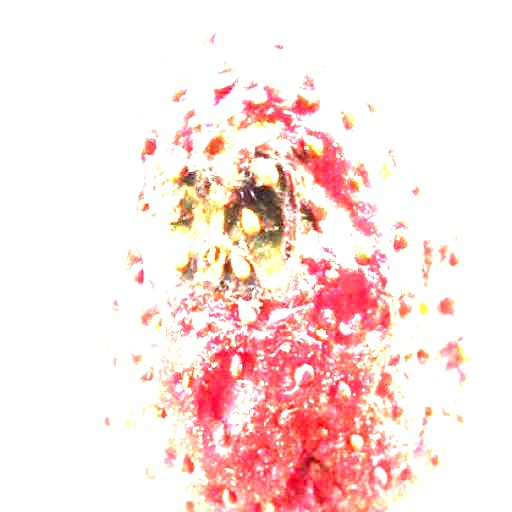Anthracnose Fruit Rot: (130, 114, 338, 331)
